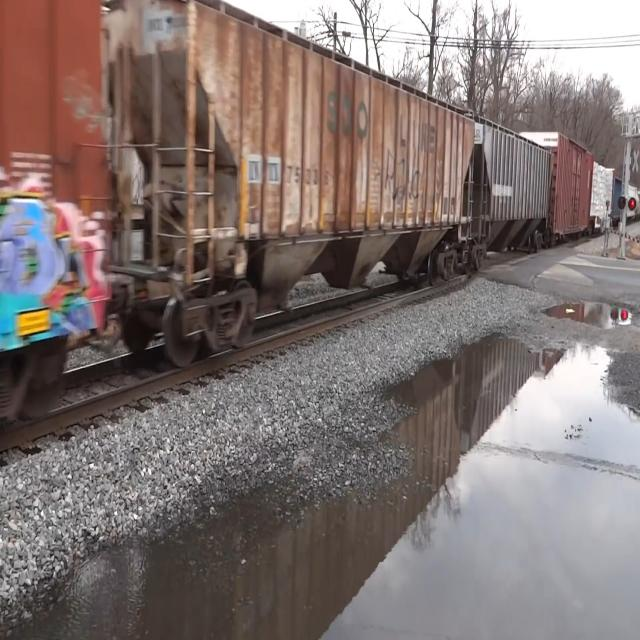boxcar: (546, 128, 594, 242)
hopper: (111, 0, 480, 367), (0, 1, 116, 490), (472, 111, 558, 268)
